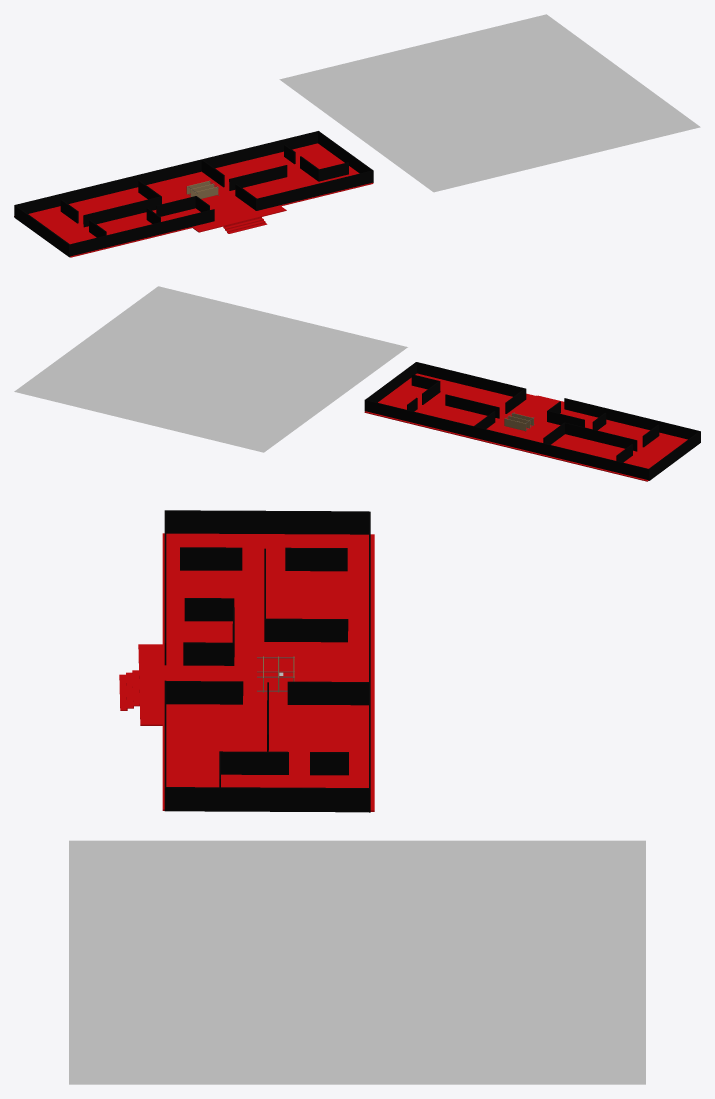
File: Rectangle Layout 2.fbx
3 renders of one model, top to bottom at view 1: azimuth 30°, elevation 25°; view 2: azimuth 150°, elevation 25°; view 3: azimuth 270°, elevation 25°, orthographic. The views are drawn at different scales.
Visible parts, largest first — view 1: 00, Ground_3.040, Wall__3__1.055, Wall__3__1.046, Wall__3__1.047, Wall__3__1.102, Wall__3__1.054, Wall__3__1.101, Ground_3.027, Wall__3__1.056, Wall__3__1.104, board (+1 smaller); view 2: 00, Ground_3.040, Wall__3__1.055, Wall__3__1.046, Wall__3__1.047, Wall__3__1.102, Wall__3__1.054, Wall__3__1.101, Wall__3__1.056, board, Wall__3__1.104; view 3: 00, Ground_3.040, Wall__3__1.056, Wall__3__1.054, Ground_3.027, Wall__3__1.065, Wall__3__1.066, Wall__3__1.063, Wall__3__1.099, Wall__3__1.105, Wall__3__1.103, Wall__3__1.057 (+2 smaller).
Part boxes in pixels (x1,y1,x2,y2): 00: (279, 14, 700, 192); Ground_3.040: (14, 143, 373, 257); Wall__3__1.055: (14, 131, 318, 217); Wall__3__1.046: (68, 209, 214, 257); Wall__3__1.047: (255, 170, 373, 210); Wall__3__1.102: (83, 196, 161, 227); Wall__3__1.054: (14, 205, 69, 256); Wall__3__1.101: (229, 165, 287, 190); Ground_3.027: (192, 206, 286, 232); Wall__3__1.056: (318, 131, 373, 173); Wall__3__1.104: (156, 196, 195, 216); board: (186, 180, 218, 198); 00: (14, 286, 407, 452); Ground_3.040: (364, 373, 687, 481); Wall__3__1.055: (364, 400, 649, 480); Wall__3__1.046: (564, 398, 700, 442); Wall__3__1.047: (417, 362, 526, 399); Wall__3__1.102: (564, 422, 637, 451); Wall__3__1.054: (649, 431, 700, 480); Wall__3__1.101: (445, 394, 499, 418); Wall__3__1.056: (365, 362, 416, 402); board: (504, 413, 533, 431); Wall__3__1.104: (547, 411, 584, 427); 00: (69, 840, 645, 1084); Ground_3.040: (162, 533, 374, 811); Wall__3__1.056: (164, 787, 369, 812); Wall__3__1.054: (165, 510, 368, 534); Ground_3.027: (138, 644, 162, 725); Wall__3__1.065: (266, 618, 348, 642); Wall__3__1.066: (287, 681, 368, 705); Wall__3__1.063: (166, 681, 243, 704); Wall__3__1.099: (219, 751, 288, 774); Wall__3__1.105: (180, 547, 242, 570); Wall__3__1.103: (285, 547, 347, 571); Wall__3__1.057: (183, 642, 234, 665).
Size of the model in its own units: 775005 by 19990 by 341801.
